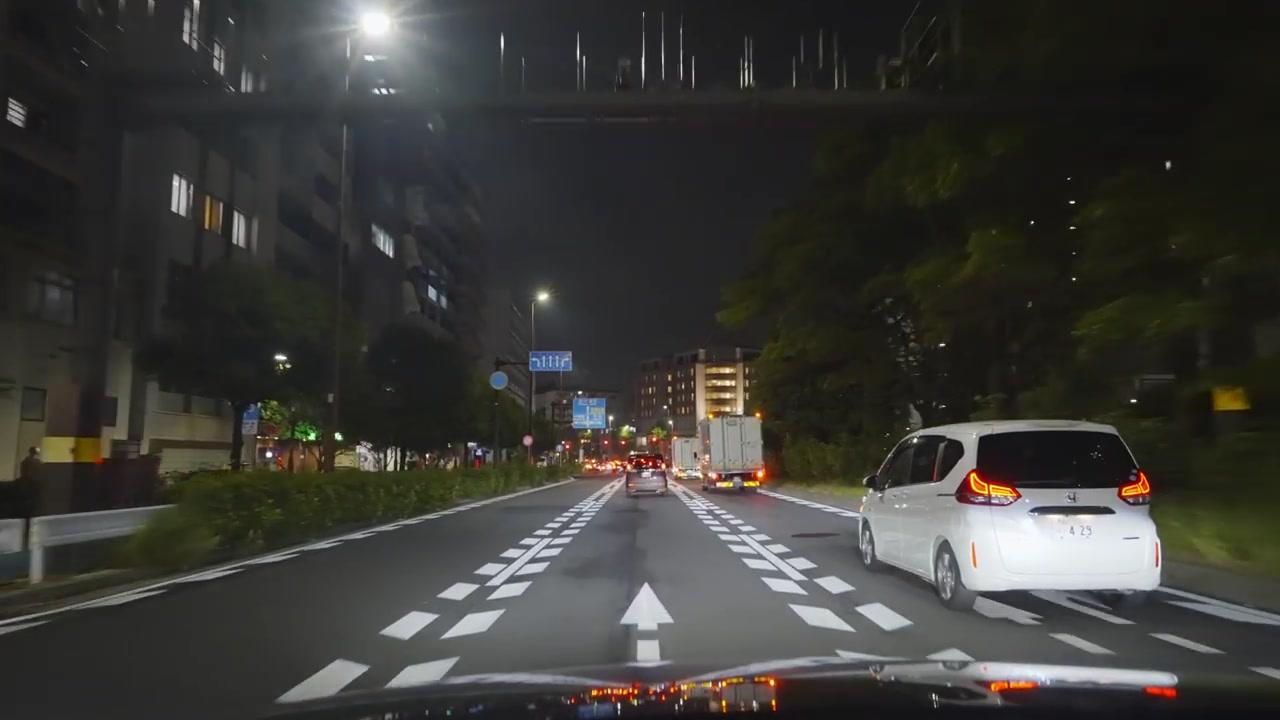car: (858, 419, 1162, 613), (625, 460, 669, 496), (603, 461, 626, 474)
person: (20, 445, 44, 482)
truck: (698, 414, 766, 493)
